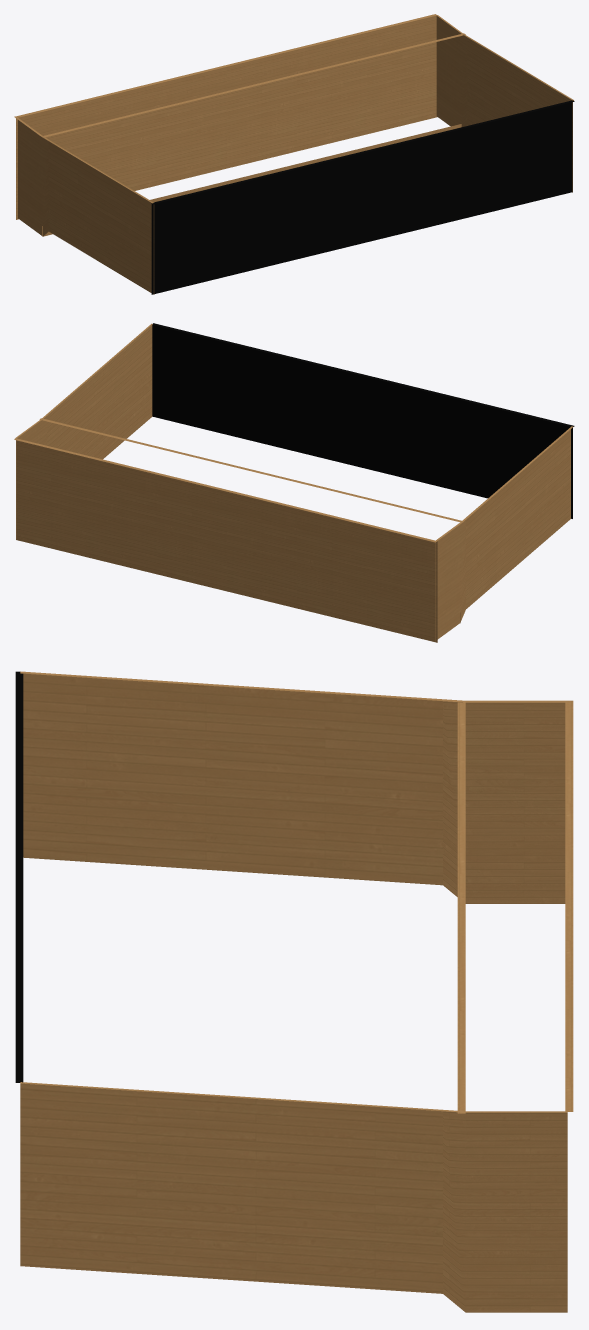
Rendered from ArcheryField_Wall.fbx.
The picture shows the model from 3 angles, top to bottom: view 1: azimuth 30°, elevation 25°; view 2: azimuth 150°, elevation 25°; view 3: azimuth 270°, elevation 25°; orthographic projection. The views are drawn at different scales.
Visible parts, largest first — view 1: ArcheryField_Wall; view 2: ArcheryField_Wall; view 3: ArcheryField_Wall.
Boxes of the visible parts, x1,y1,x2,y2 form: ArcheryField_Wall: (14,14,574,294); ArcheryField_Wall: (14,323,574,642); ArcheryField_Wall: (15,671,573,1312).
Bounding box in the file's own units: 1962 × 515 × 1120.
